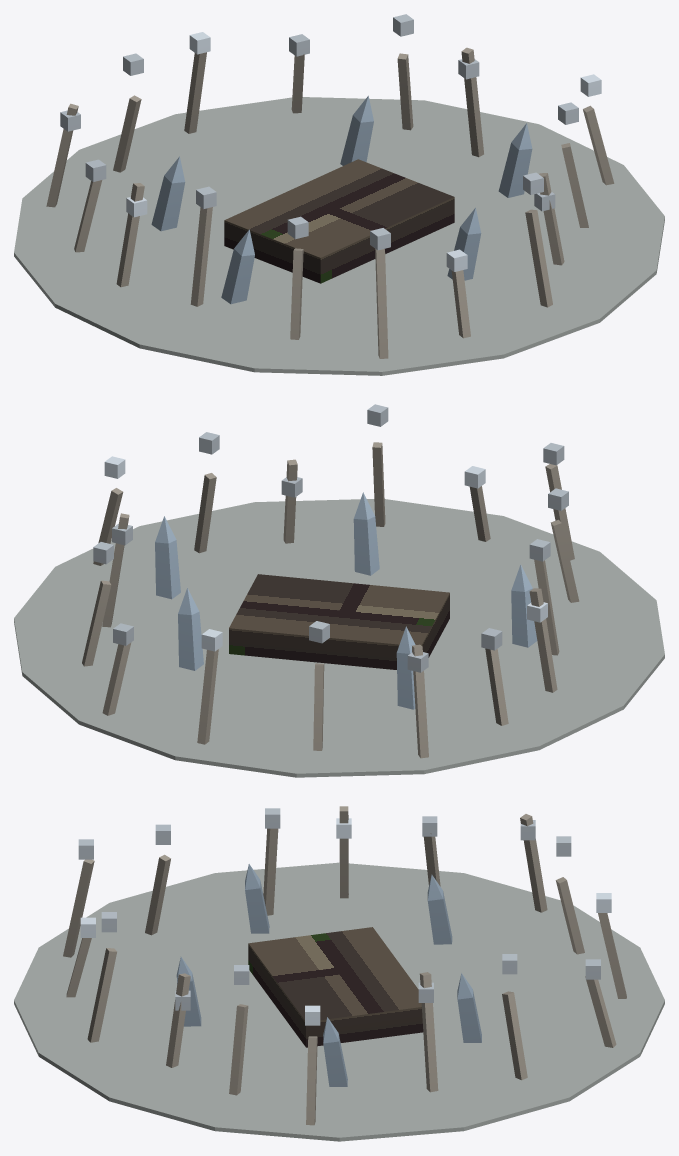
File: frost_scar.glb
3 renders of one model, top to bottom at view 1: azimuth 30°, elevation 25°; view 2: azimuth 150°, elevation 25°; view 3: azimuth 270°, elevation 25°, orthographic.
Visible parts, largest first — view 1: frost_scar; view 2: frost_scar; view 3: frost_scar.
Part boxes in pixels (bbox=[...]): frost_scar: bbox=[14, 14, 664, 375]; frost_scar: bbox=[14, 404, 664, 777]; frost_scar: bbox=[14, 806, 664, 1141].
Size of the model in its own units: 3 by 0.6646 by 3.
3 materials, 1 textured.
